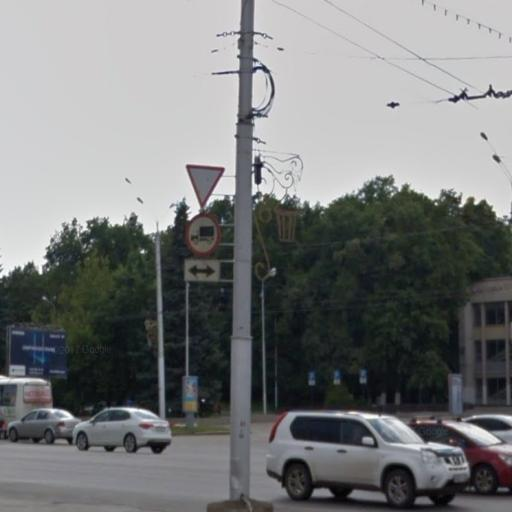traffic_sign: (187, 164, 227, 211), (186, 213, 224, 259)
